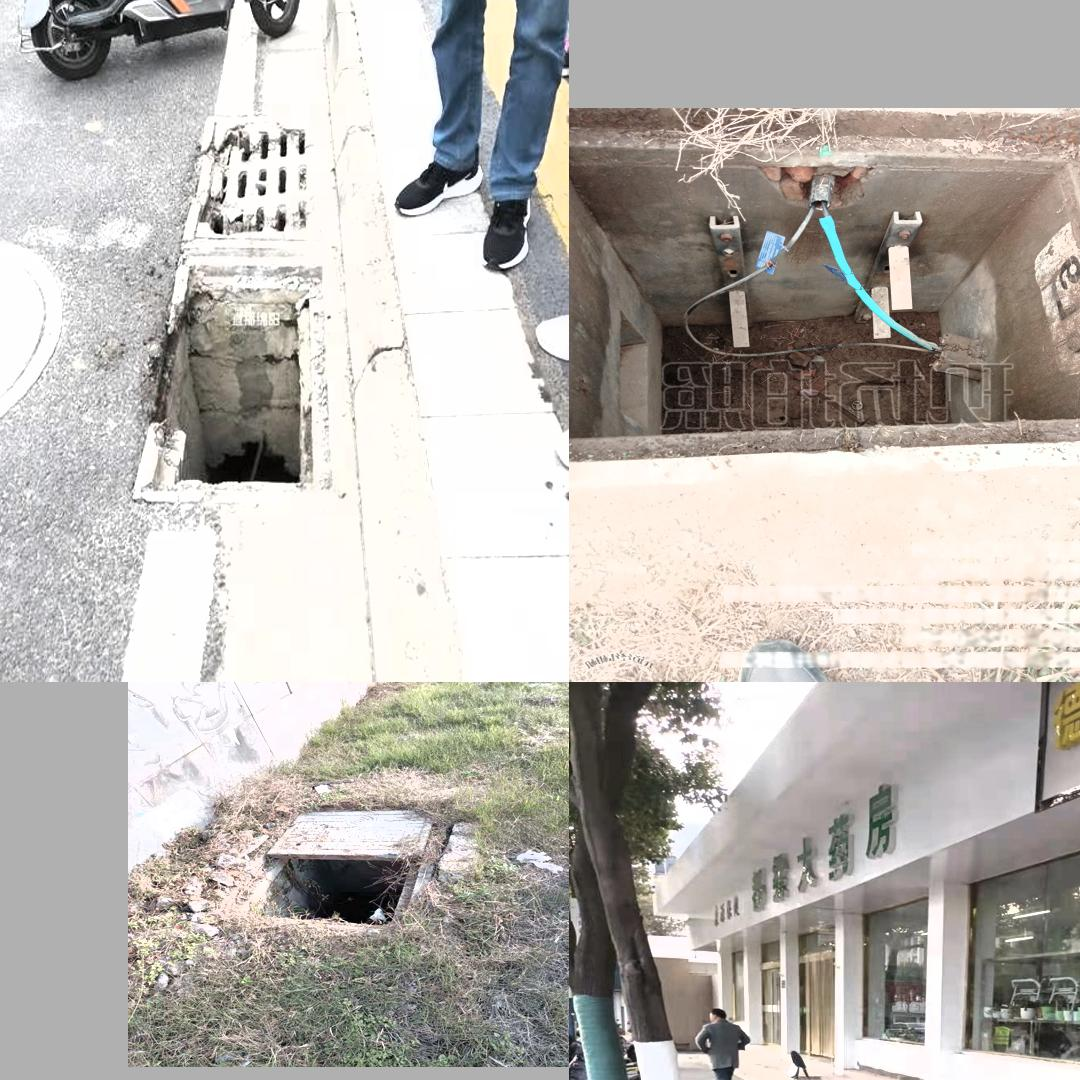lose: (569, 127, 1080, 462), (124, 233, 360, 525), (204, 793, 476, 948)
